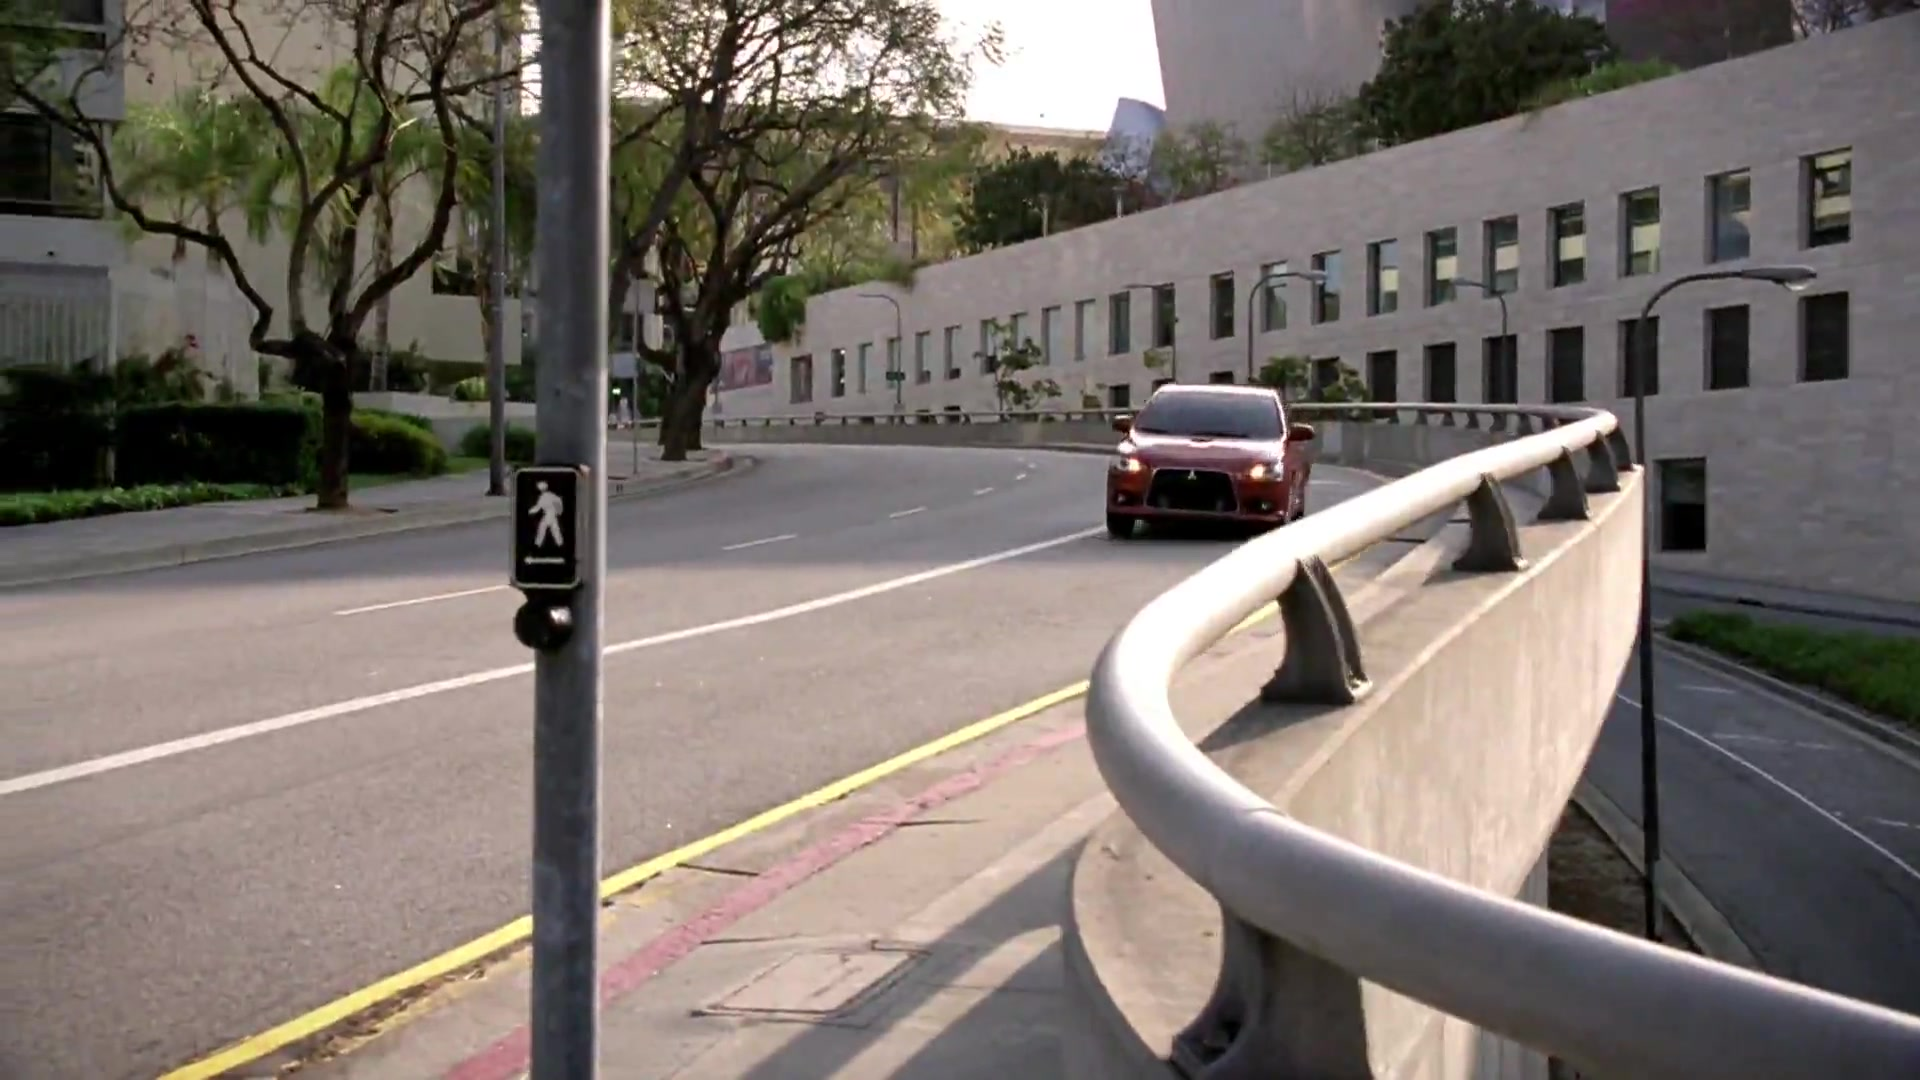car: (1097, 378, 1315, 541)
